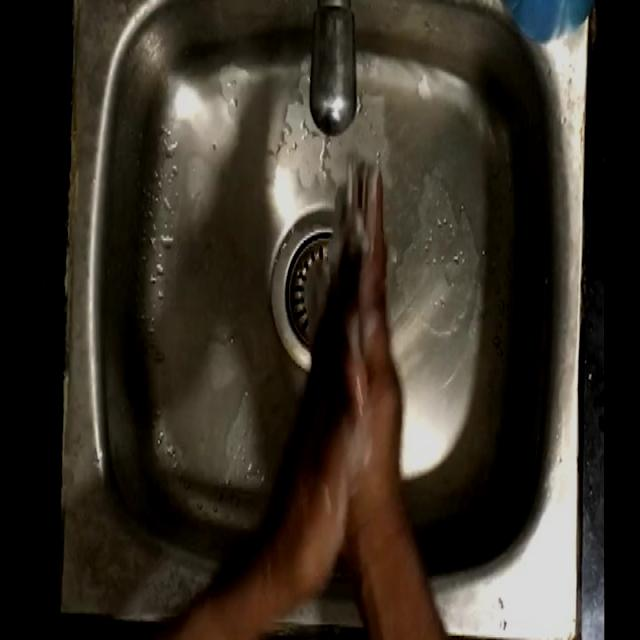step_1: (277, 142, 423, 485)
